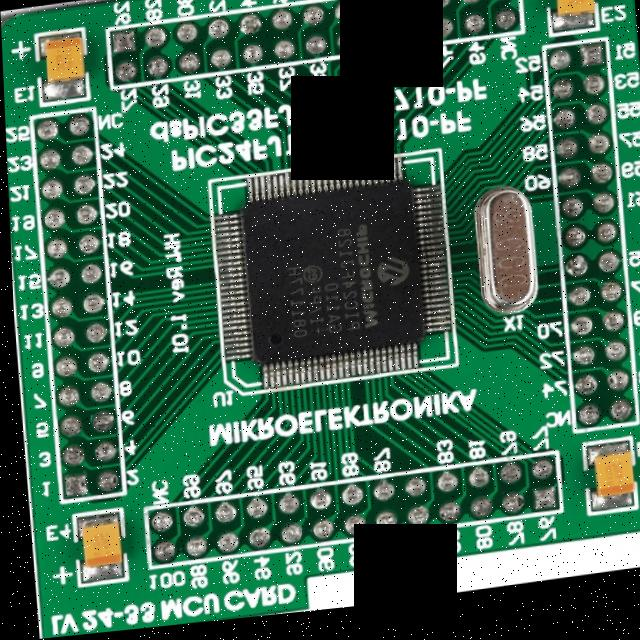IC: (223, 171, 438, 390)
capacitor 1V5: (70, 519, 120, 578), (36, 38, 85, 95), (578, 458, 624, 517), (554, 0, 592, 35)
clock Q1: (479, 201, 529, 324)
